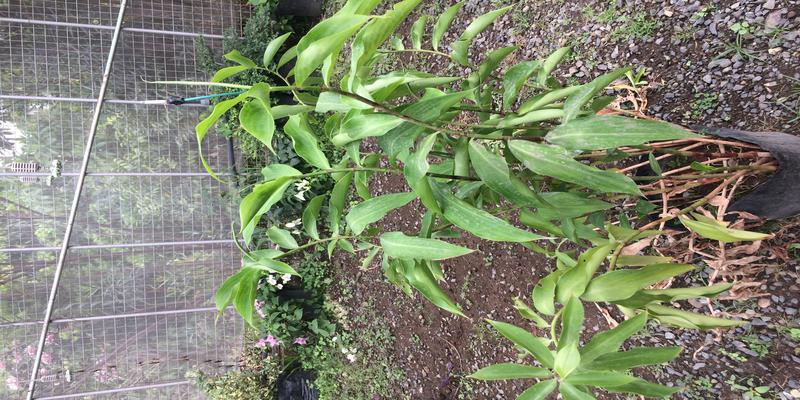Insulin: (204, 53, 734, 284)
